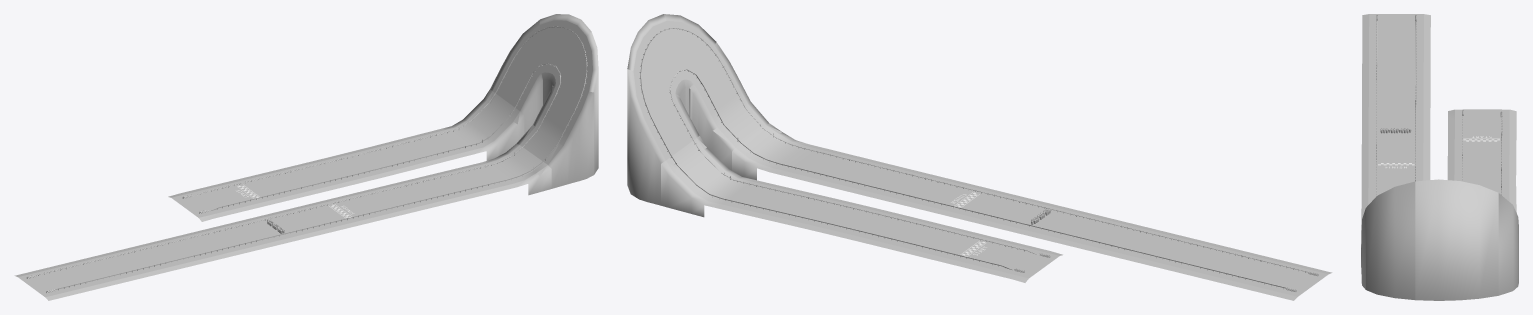
Rendered from Road10D60.fbx.
3 renders of one model, left to right at view 1: azimuth 30°, elevation 25°; view 2: azimuth 150°, elevation 25°; view 3: azimuth 270°, elevation 25°, orthographic. The views are drawn at different scales.
Visible parts, largest first — view 1: Markers0.015, Markers7.015, SCutR3.015, Markers2.015, Markers1.015, Markers8.015, SCutL7.015, SCutR0.015, Markers3.015, SCutR2.015, Markers6.015, WBeam2R.015 (+18 smaller); view 2: Markers0.015, Markers7.015, Markers2.015, SCutR6.015, Markers1.015, SCutR7.015, Markers8.015, SCutL0.015, Markers3.015, SCutL2.015, Markers6.015, SCutL3.015 (+18 smaller); view 3: SCutR5.015, SCutR4.015, Markers0.015, Markers1.015, SCutR6.015, Markers8.015, SCutR0.015, SCutL0.015, Markers9.015, SCutR1.015, SCutL1.015, SCutR8.015 (+8 smaller).
Boxes of the visible parts, <box> form: Markers0.015: <box>22,227,257,294</box>; Markers7.015: <box>358,94,515,170</box>; SCutR3.015: <box>544,91,594,188</box>; Markers2.015: <box>387,148,543,205</box>; Markers1.015: <box>239,191,405,241</box>; Markers8.015: <box>244,156,377,198</box>; SCutL7.015: <box>378,108,524,176</box>; SCutR0.015: <box>41,242,264,300</box>; Markers3.015: <box>524,87,583,161</box>; SCutR2.015: <box>407,162,551,211</box>; Markers6.015: <box>496,32,540,107</box>; WBeam2R.015: <box>55,26,587,290</box>; Markers0.015: <box>1059,218,1323,293</box>; Markers7.015: <box>670,141,849,224</box>; Markers2.015: <box>740,128,914,193</box>; SCutR6.015: <box>627,69,669,205</box>; Markers1.015: <box>893,177,1080,233</box>; SCutR7.015: <box>661,157,828,232</box>; Markers8.015: <box>829,209,978,256</box>; SCutL0.015: <box>1051,234,1301,300</box>; Markers3.015: <box>697,51,760,143</box>; SCutL2.015: <box>732,144,892,200</box>; Markers6.015: <box>639,75,691,156</box>; SCutL3.015: <box>690,79,739,170</box>; SCutR5.015: <box>1415,179,1498,300</box>; SCutR4.015: <box>1366,181,1415,299</box>; Markers0.015: <box>1376,14,1416,119</box>; Markers1.015: <box>1376,119,1415,191</box>; SCutR6.015: <box>1498,193,1518,295</box>; Markers8.015: <box>1462,142,1501,194</box>; SCutR0.015: <box>1362,14,1376,120</box>; SCutL0.015: <box>1415,14,1430,120</box>; Markers9.015: <box>1462,109,1501,142</box>; SCutR1.015: <box>1361,119,1376,192</box>; SCutL1.015: <box>1415,119,1430,181</box>; SCutR8.015: <box>1501,143,1516,198</box>.
Size of the model in its own units: 25173 by 5249 by 6051.
